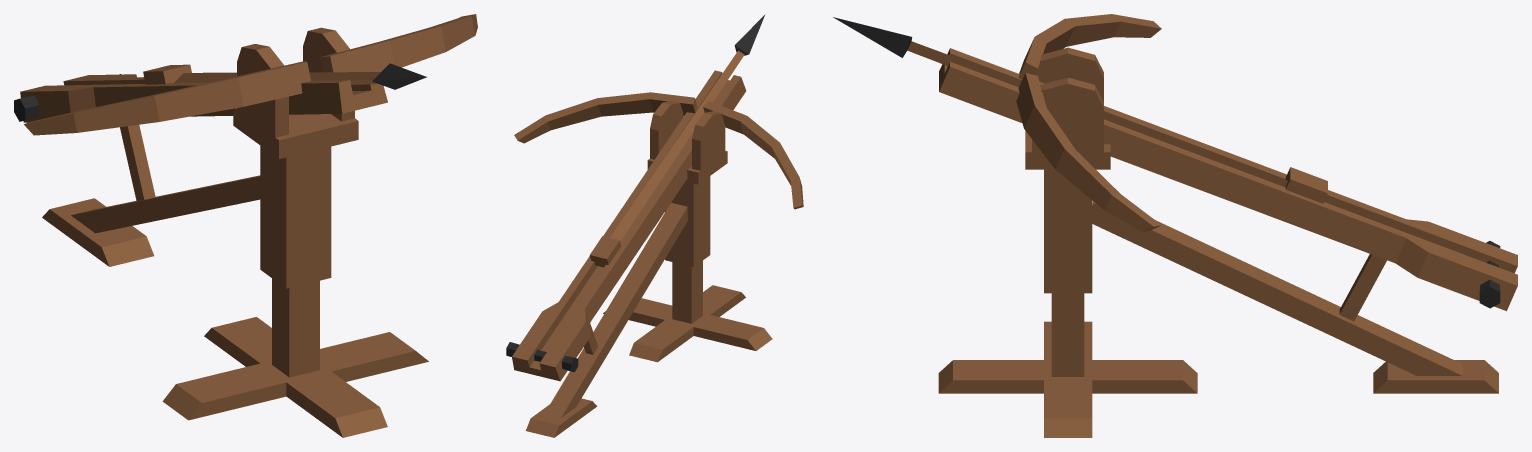
File: medieval-ballista.glb
3 renders of one model, left to right at view 1: azimuth 30°, elevation 25°; view 2: azimuth 150°, elevation 25°; view 3: azimuth 270°, elevation 25°, orthographic. The views are drawn at different scales.
Visible parts, largest first — view 1: ballista; view 2: ballista; view 3: ballista.
Part boxes in pixels (x1=…): ballista: x1=14, y1=14, x2=477, y2=437; ballista: x1=506, y1=14, x2=803, y2=437; ballista: x1=833, y1=14, x2=1517, y2=437.
Bounding box in the file's own units: 3.15 × 2.63 × 4.44.
